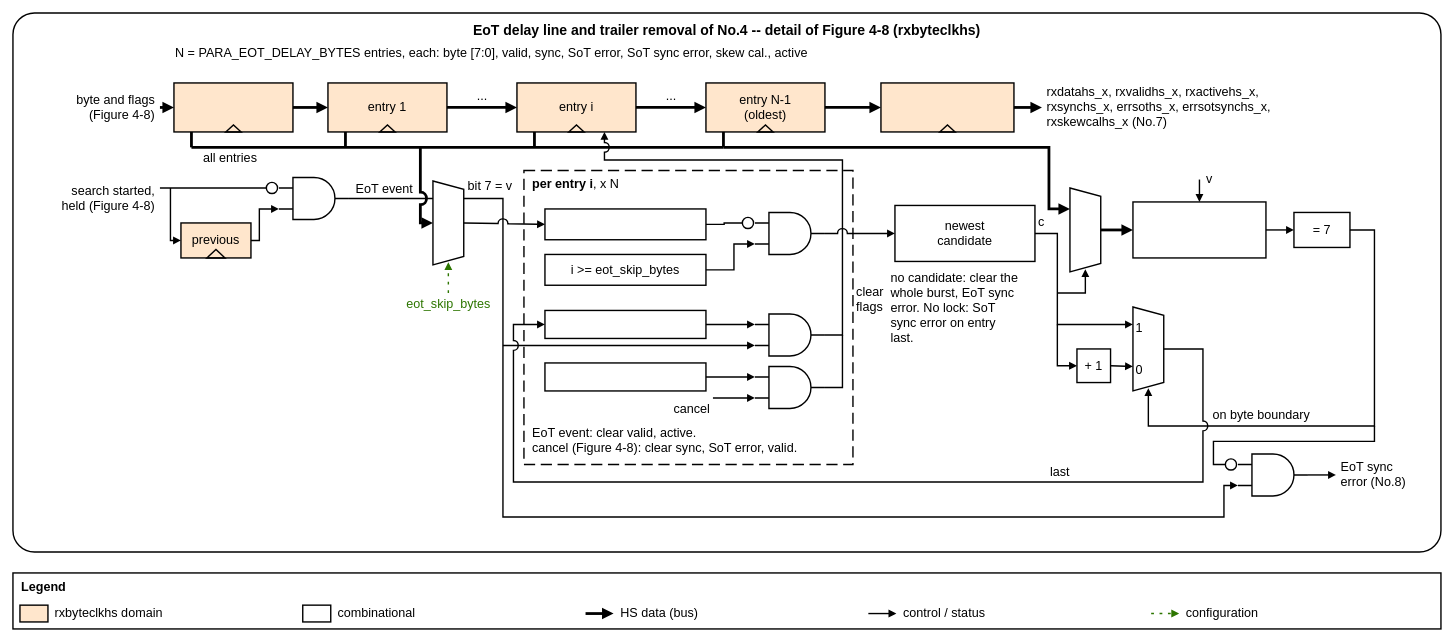
Image size: 1453x641. Some labels were removed from this diagram. Here are the shapes that lost their labels. From the top down, the centre of each, then its label:
point (233, 107): entry 0 (newest)
point (947, 107): output registers
point (625, 224): entry i = 8 x v
point (1199, 229): highest bit <> v
point (625, 324): i < last
point (625, 376): i < 3
